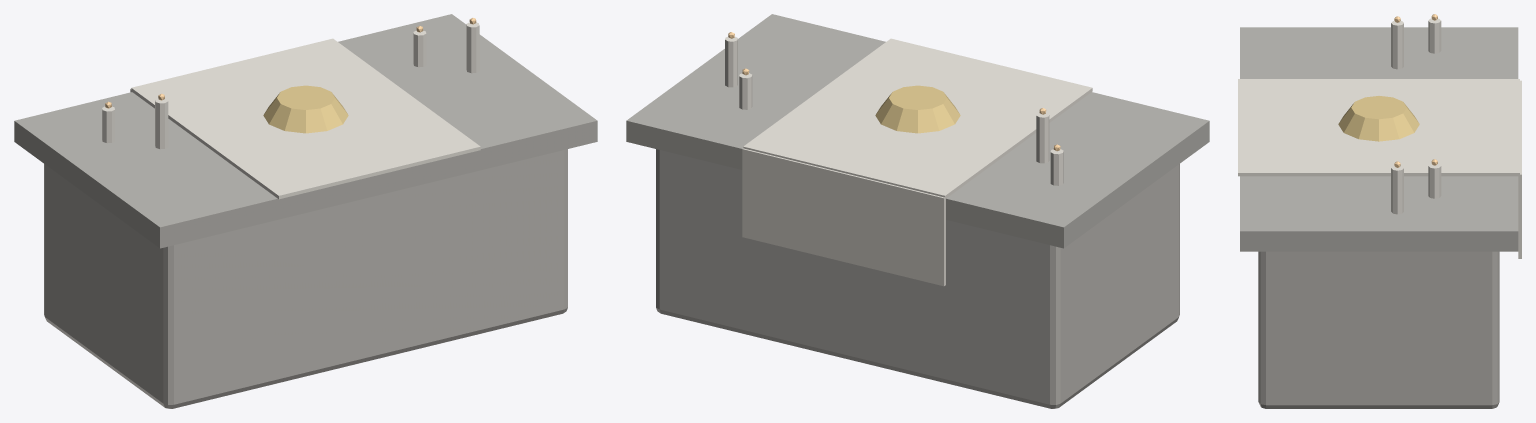
File: altar.glb
3 views of the same model, side by side, from view 1: azimuth 30°, elevation 25°; view 2: azimuth 150°, elevation 25°; view 3: azimuth 270°, elevation 25° (orthographic). The views are drawn at different scales.
Parts seen in each view (by area): view 1: altar; view 2: altar; view 3: altar.
Part boxes in pixels (x1,y1,x2,y2): altar: (14,14,597,408); altar: (626,14,1209,408); altar: (1238,14,1521,408).
Size of the model in its own units: 2.6 by 1.42 by 1.53.
